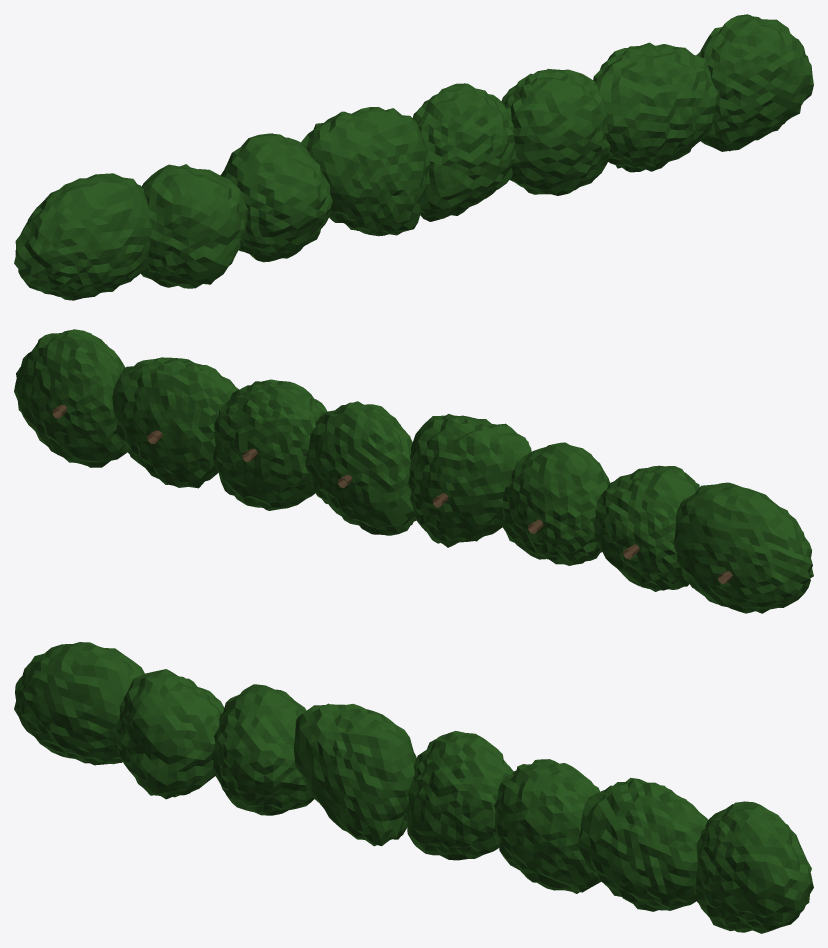
File: citrus_run8_a.obj
3 renders of one model, top to bottom at view 1: azimuth 30°, elevation 25°; view 2: azimuth 150°, elevation 25°; view 3: azimuth 330°, elevation 25°, orthographic.
Visible parts, largest first — view 1: canopy; view 2: canopy, trunk; view 3: canopy.
Part boxes in pixels (box(x1,y1,x2,y2)): canopy: box(14, 14, 813, 300); canopy: box(14, 329, 813, 613); trunk: box(52, 405, 732, 584); canopy: box(14, 642, 813, 933).
Bounding box in the file's own units: 25.07 × 4.08 × 3.22.
